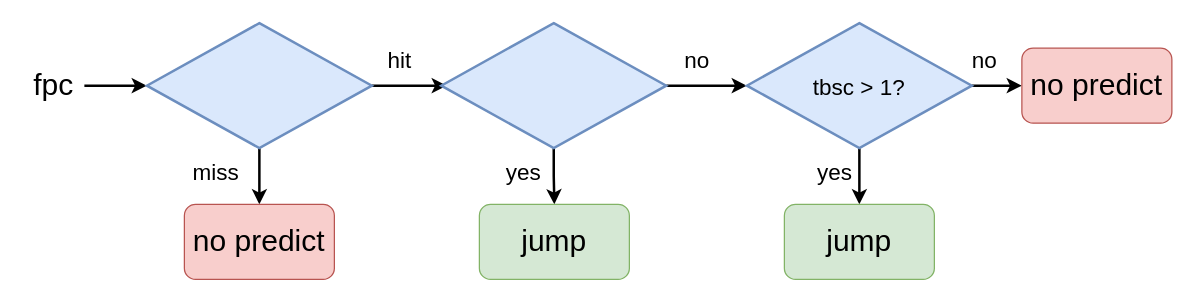
The diagram is 1194 pixels wide and 301 high, and some of its shapes have lost their labels. The centre of each missing label's shape, as x and y in pixels:
compare pcTag: the point at 258,85
jmp == 1?: the point at 553,85
